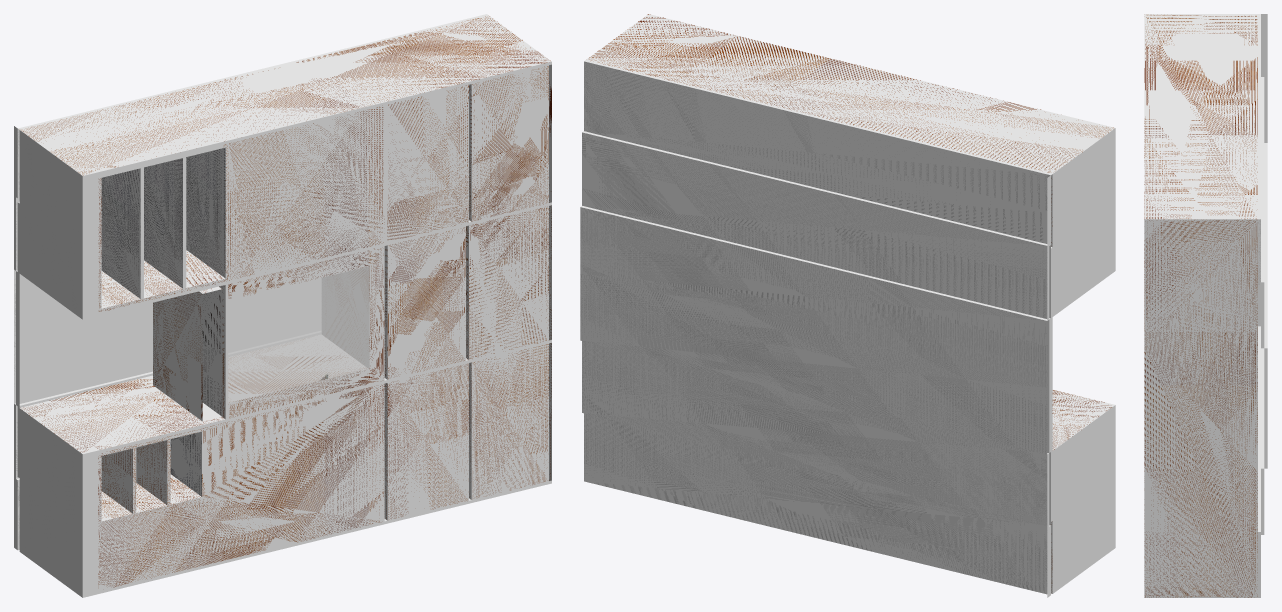
The picture shows the model from 3 angles, left to right: view 1: azimuth 30°, elevation 25°; view 2: azimuth 150°, elevation 25°; view 3: azimuth 270°, elevation 25°; orthographic projection. The views are drawn at different scales.
Visible parts, largest first — view 1: mesh1_mesh1-geometry, mesh2_mesh2-geometry; view 2: mesh1_mesh1-geometry; view 3: mesh1_mesh1-geometry.
Part boxes in pixels (x1,y1,x2,y2): mesh1_mesh1-geometry: (14,14,551,597); mesh2_mesh2-geometry: (153,286,222,421); mesh1_mesh1-geometry: (580,14,1115,597); mesh1_mesh1-geometry: (1144,14,1267,597).
Bounding box in the file's own units: 0.7448 × 0.64 × 0.1887.
